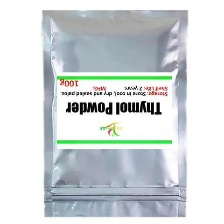insecticide: (39, 4, 192, 221)
